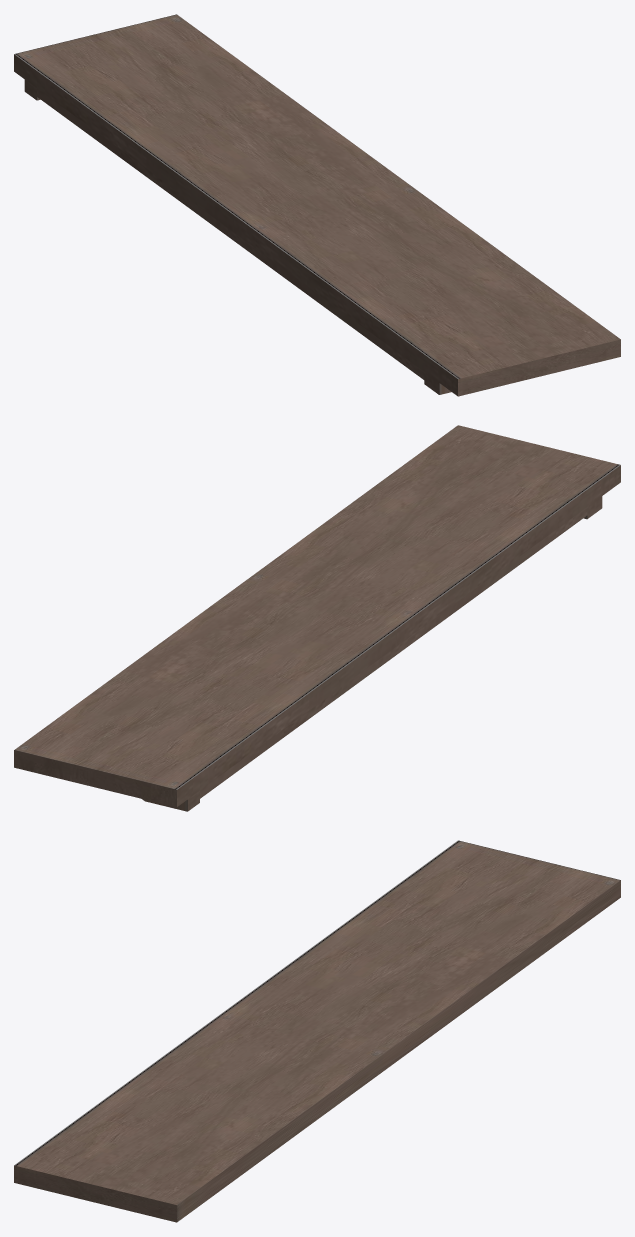
File: Shelf.fbx
3 views of the same model, one above another, from view 1: azimuth 30°, elevation 25°; view 2: azimuth 150°, elevation 25°; view 3: azimuth 330°, elevation 25° (orthographic).
Parts seen in each view (by area): view 1: Shelf; view 2: Shelf; view 3: Shelf.
Part boxes in pixels (left/top/right/bottom): Shelf: left=14, top=14, right=620, bottom=396; Shelf: left=14, top=425, right=620, bottom=811; Shelf: left=14, top=840, right=620, bottom=1222.
Bounding box in the file's own units: 82.38 × 14.36 × 389.
1 material, 1 textured.
